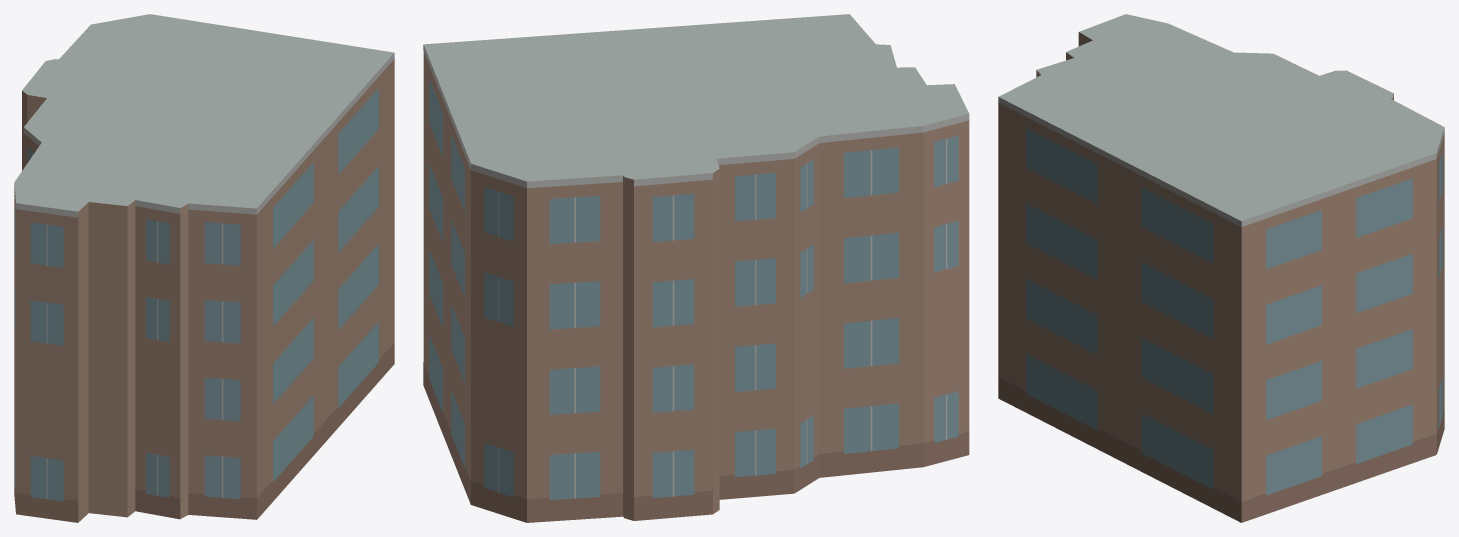
File: survey-upis-32950563.glb
3 views of the same model, side by side, from view 1: azimuth 30°, elevation 25°; view 2: azimuth 150°, elevation 25°; view 3: azimuth 270°, elevation 25° (orthographic). The views are drawn at different scales.
Parts seen in each view (by area): view 1: survey-upis-32950563.tmp; view 2: survey-upis-32950563.tmp; view 3: survey-upis-32950563.tmp.
Boxes of the visible parts, bbox=[...] form: survey-upis-32950563.tmp: bbox=[14, 14, 394, 522]; survey-upis-32950563.tmp: bbox=[423, 14, 969, 522]; survey-upis-32950563.tmp: bbox=[998, 14, 1444, 522].
Bounding box in the file's own units: 18.57 × 12.6 × 16.9.
